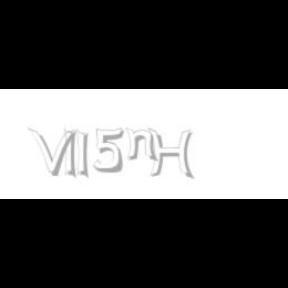5: (94, 128, 124, 174)
H: (148, 128, 194, 180)
I: (76, 128, 89, 180)
V: (28, 128, 76, 176)
l: (64, 128, 80, 180)
n: (125, 128, 159, 162)
